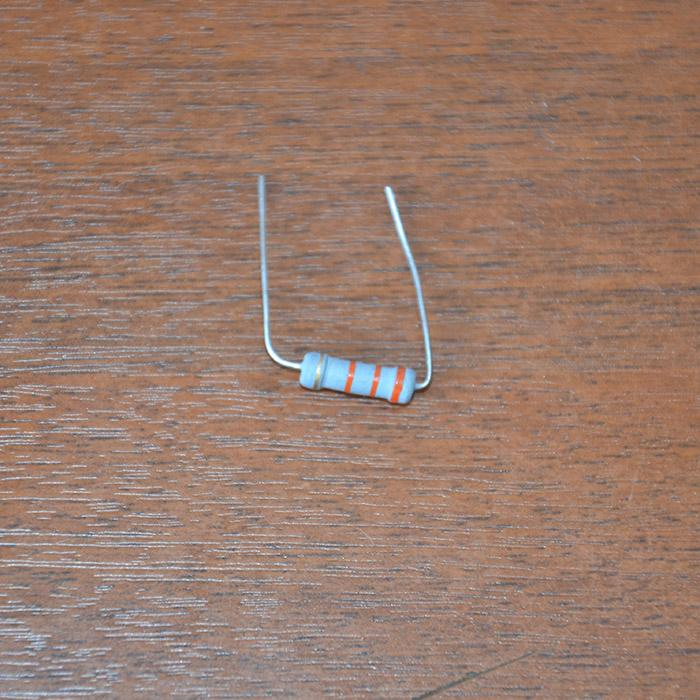resistor: (297, 348, 418, 404)
